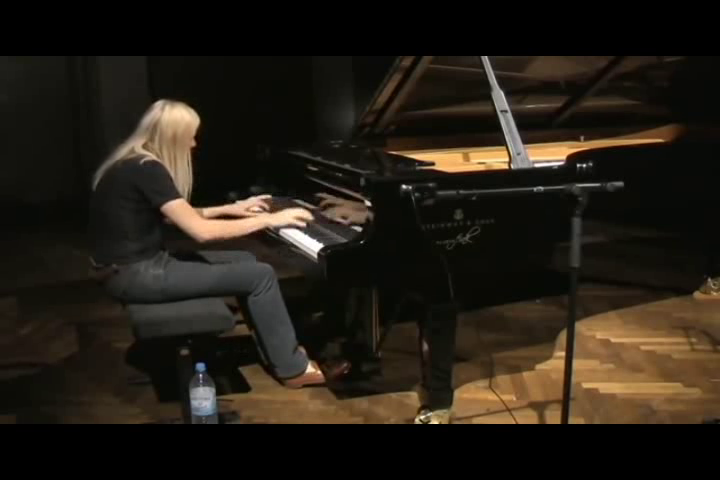keyboard: (221, 180, 372, 267)
